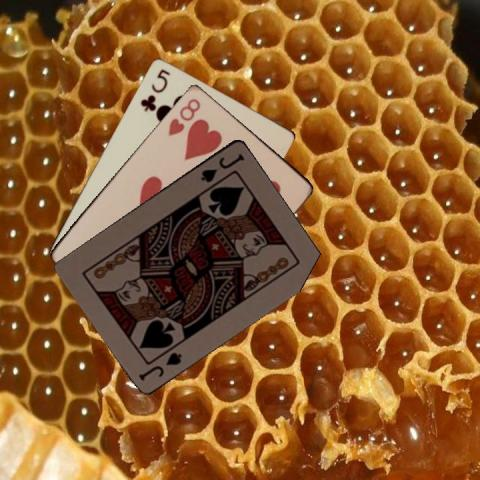5c: (137, 65, 172, 113)
8h: (165, 95, 202, 137)
Js: (197, 149, 246, 184), (135, 348, 184, 382)
